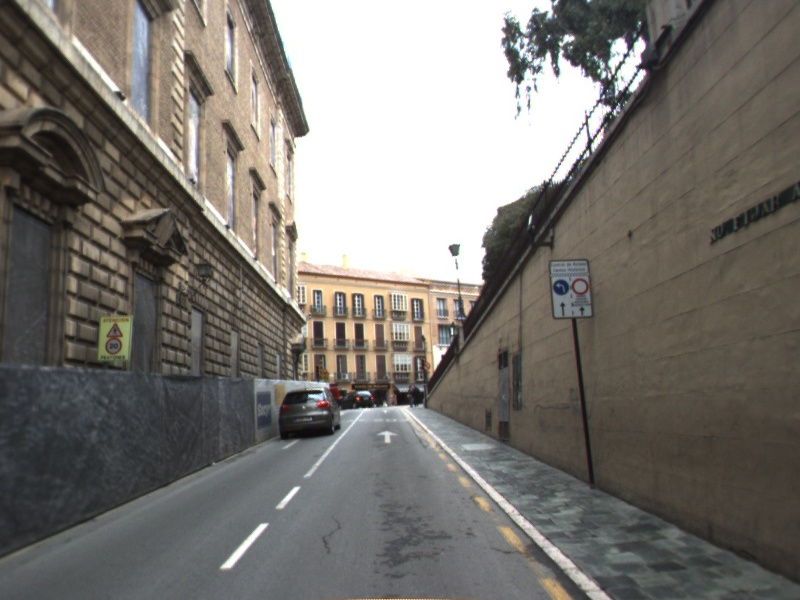STRAIGHT: (374, 428, 400, 445)
